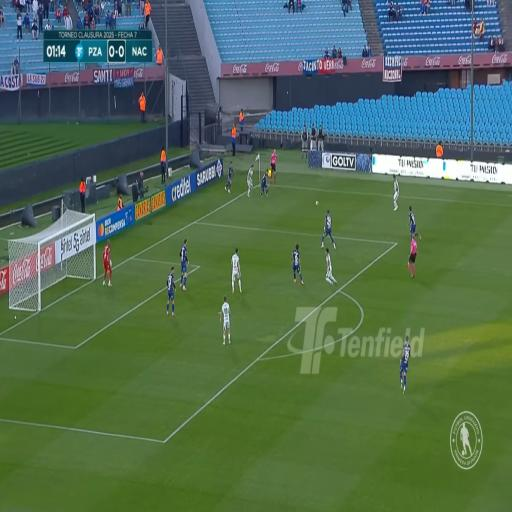Ball: (316, 199, 319, 207)
Goalkeeper: (102, 239, 112, 286)
Player: (400, 327, 413, 395), (320, 206, 338, 253), (220, 297, 232, 351), (178, 234, 188, 295), (166, 266, 178, 316), (327, 247, 338, 296), (231, 246, 241, 296), (292, 239, 303, 284), (408, 203, 420, 243), (391, 170, 399, 211), (246, 166, 255, 199), (262, 171, 270, 200), (228, 162, 233, 194)
Referee: (407, 232, 419, 282), (270, 148, 279, 182)
